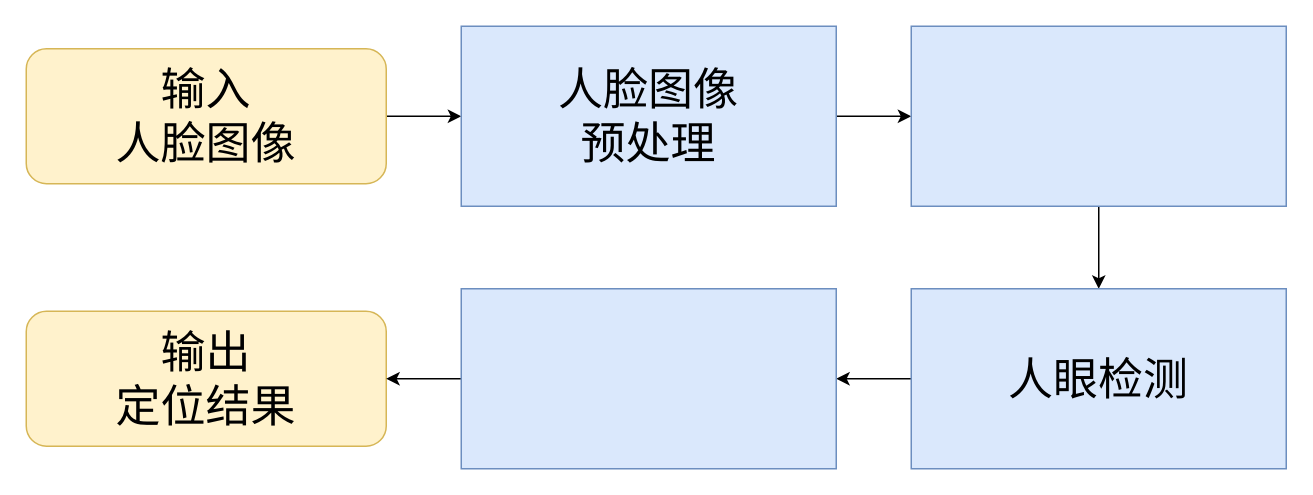
Some shapes in this 1313 by 495 pixel diagram are drawn without their labels. Each missing label, with the centre of its shape:
"人脸检测" goes at [1098,115].
"瞳孔中心 定位" goes at [648,378].
